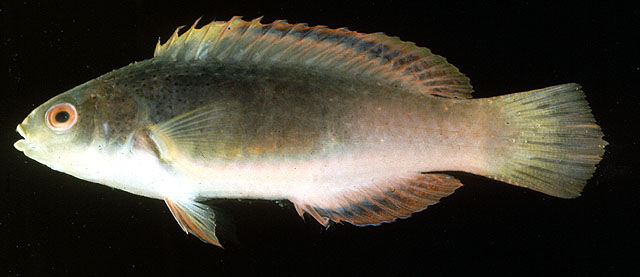fish: (14, 16, 608, 248)
